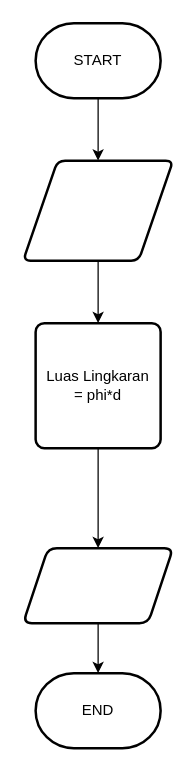
This 195x770 diagram has some shape labels left out. The box of each missing label's shape, as (x1, y1, x2, y2) in pixels:
Luas Lingkaran: (21, 546, 174, 624)
Luas Lingkaran phi d: (21, 159, 174, 261)
